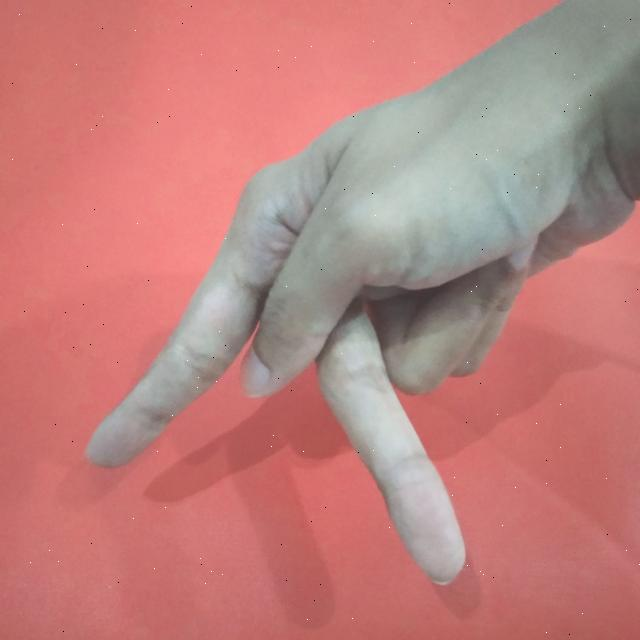P: (78, 0, 640, 591)
